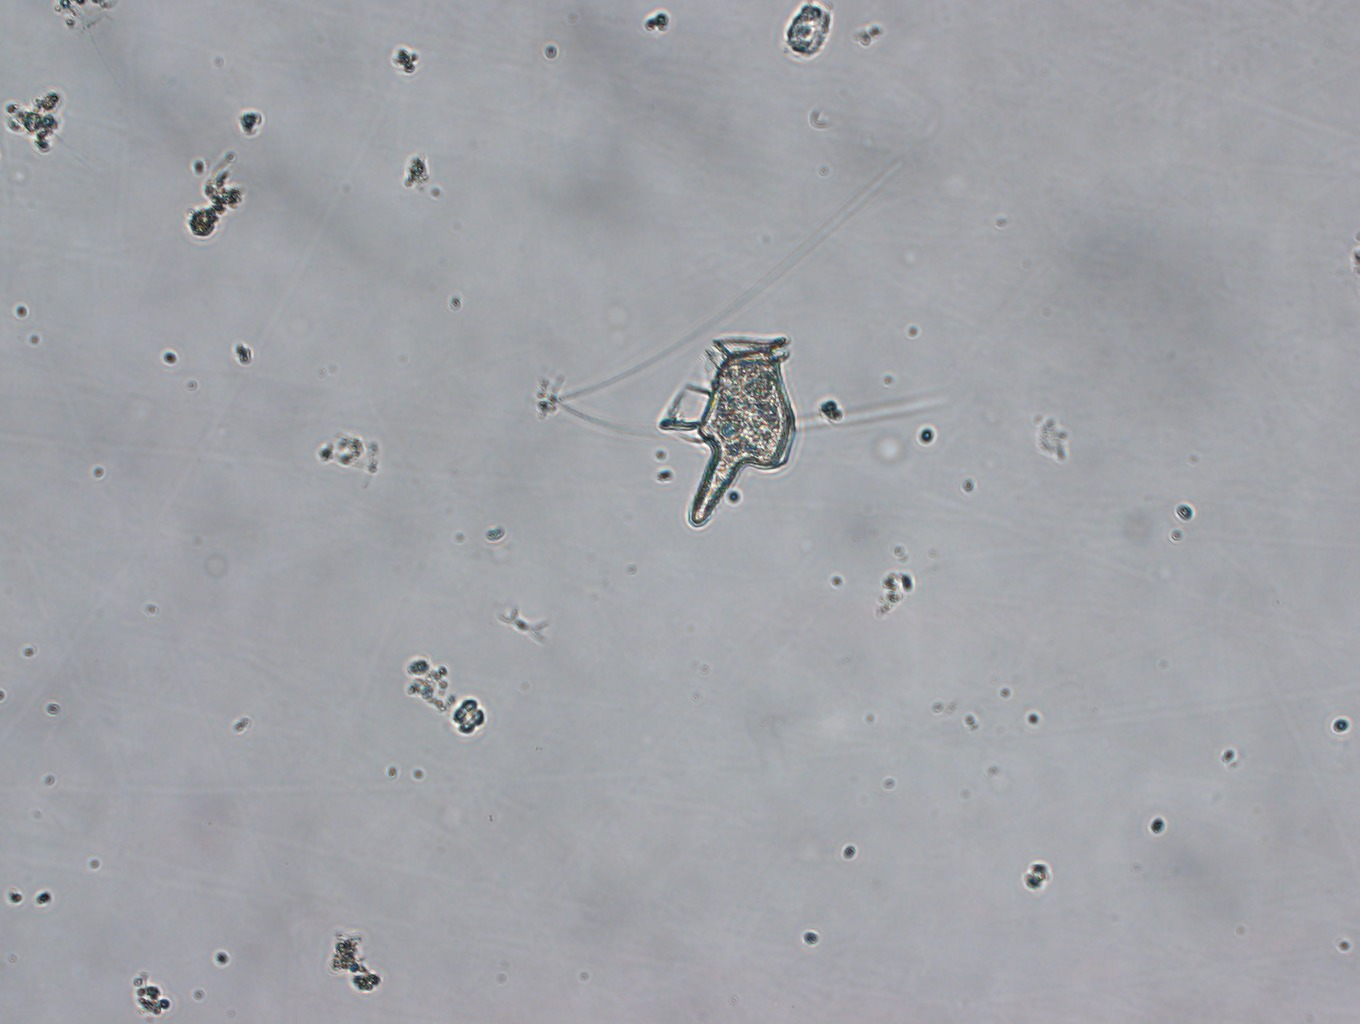dinophysis caudata: (655, 337, 799, 534)
